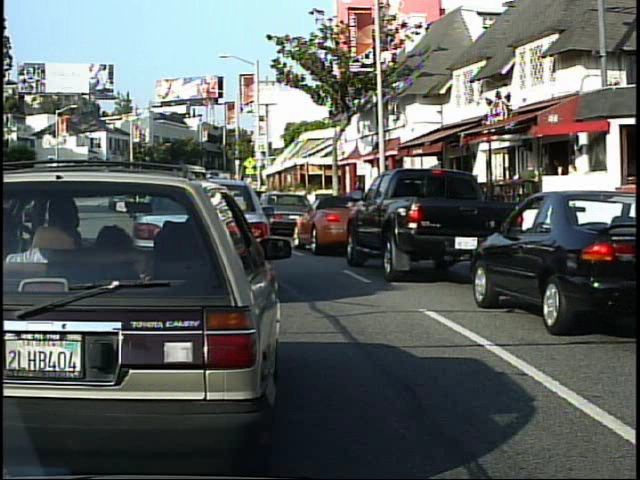person: (515, 153, 541, 223), (549, 151, 574, 220)
